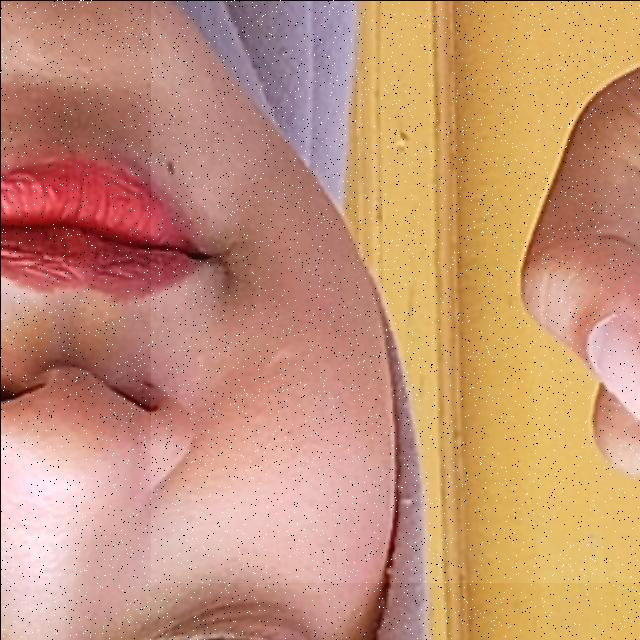baik: (150, 0, 640, 582)
